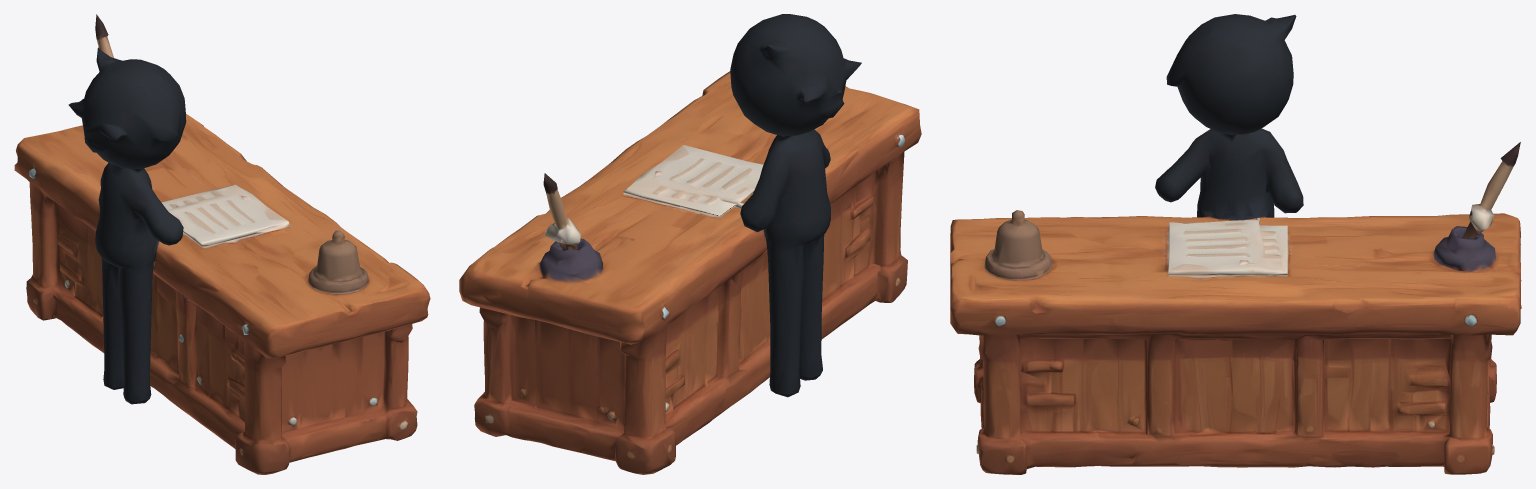
The model's file is prop_guild_counter_model.glb.
The picture shows the model from 3 angles, left to right: view 1: azimuth 30°, elevation 25°; view 2: azimuth 150°, elevation 25°; view 3: azimuth 270°, elevation 25°; orthographic projection. The views are drawn at different scales.
Parts seen in each view (by area): view 1: tripo_node_6b9ecfec-4085-46a9-9297-8348ffbc845e; view 2: tripo_node_6b9ecfec-4085-46a9-9297-8348ffbc845e; view 3: tripo_node_6b9ecfec-4085-46a9-9297-8348ffbc845e.
Boxes of the visible parts, x1=… form: tripo_node_6b9ecfec-4085-46a9-9297-8348ffbc845e: x1=14, y1=14, x2=430, y2=474; tripo_node_6b9ecfec-4085-46a9-9297-8348ffbc845e: x1=459, y1=14, x2=921, y2=474; tripo_node_6b9ecfec-4085-46a9-9297-8348ffbc845e: x1=950, y1=14, x2=1521, y2=474.
Bounding box in the file's own units: 0.4953 × 0.7042 × 1.
1 material, 1 textured.
